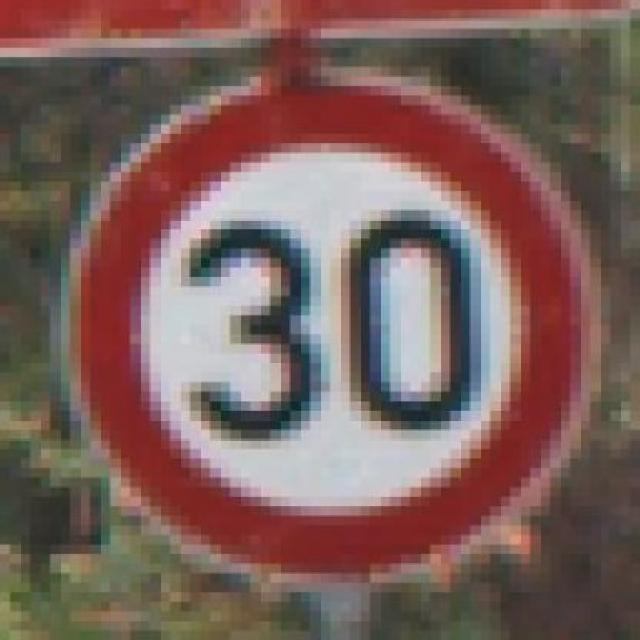Speed Limit 30 KMPh: (40, 66, 631, 631)
